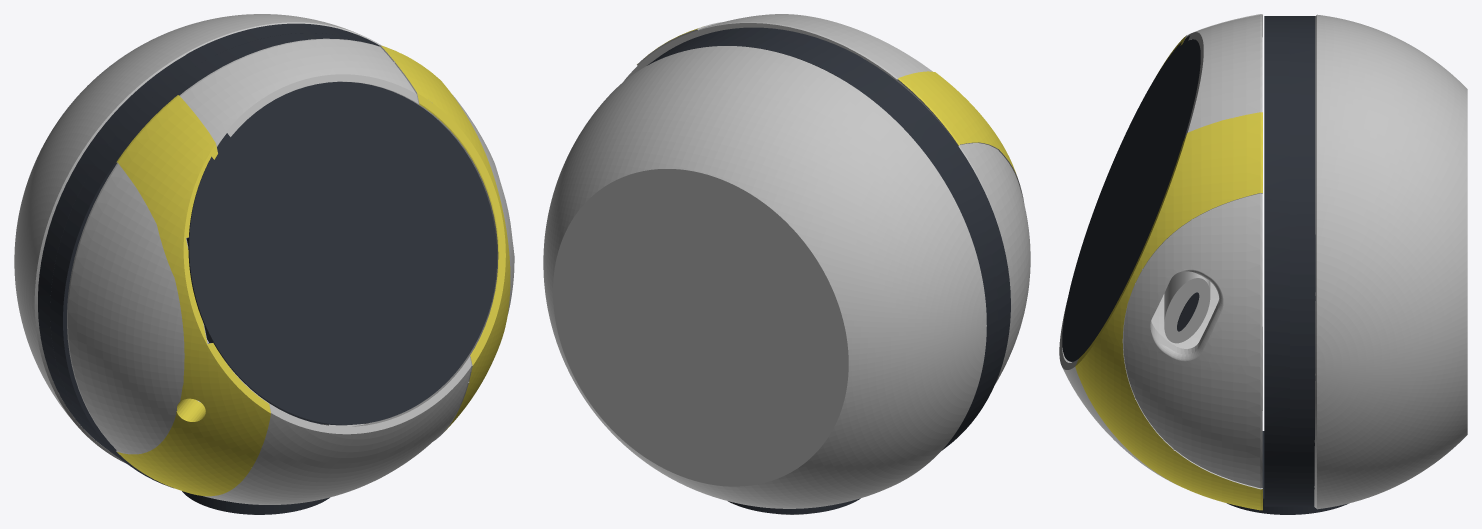
The model's file is poketama-ultra-screen.glb.
3 renders of one model, left to right at view 1: azimuth 30°, elevation 25°; view 2: azimuth 150°, elevation 25°; view 3: azimuth 270°, elevation 25°, orthographic.
Bounding box in the file's own units: 1.94 × 2 × 1.58.
